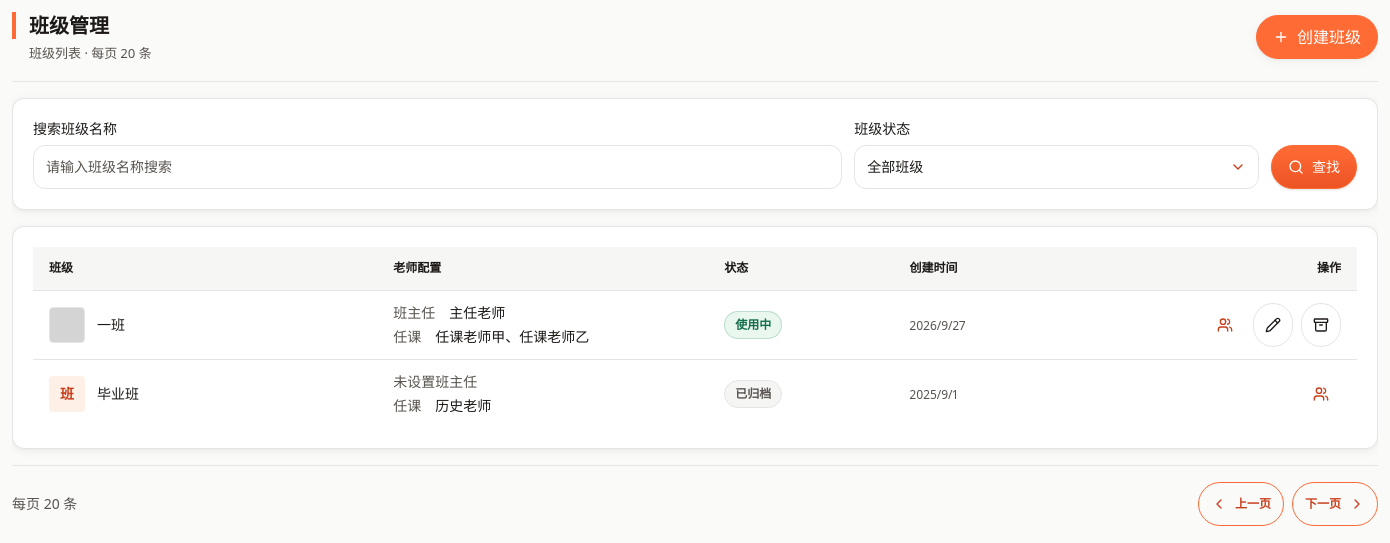
Test case: clear control resets unsubmitted class search and status controls
Type "unsubmitted class" into the search field labelled "搜索班级名称" at (438, 167), box [33, 145, 842, 189]
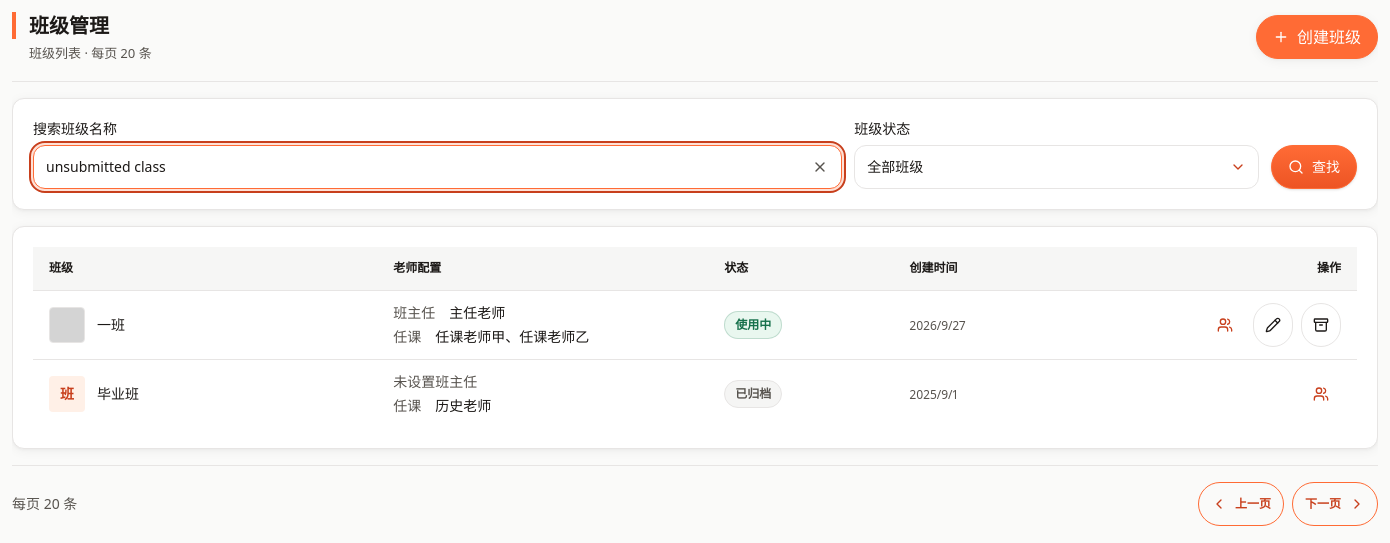
Click the button named "清空输入内容" at (820, 167), box [802, 149, 838, 185]
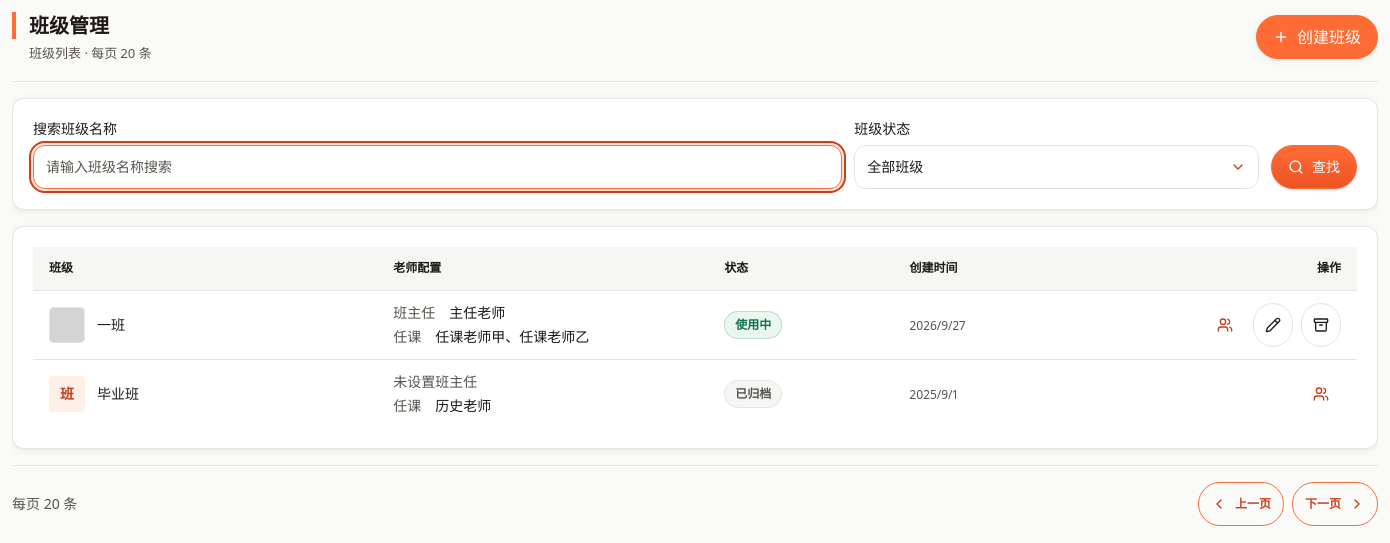
Check: the dropdown named "班级状态" reads "全部班级", box [854, 145, 1259, 189]
Check: the search field labelled "搜索班级名称" is empty, box [33, 145, 842, 189]
